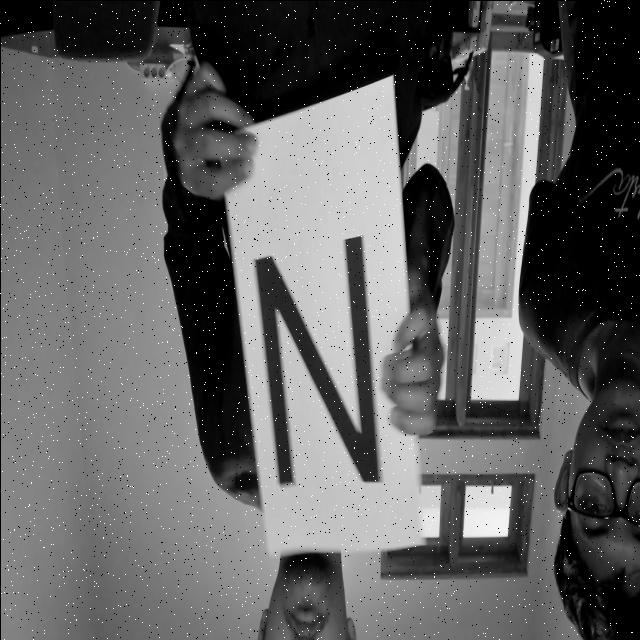n: (242, 208, 386, 496)
